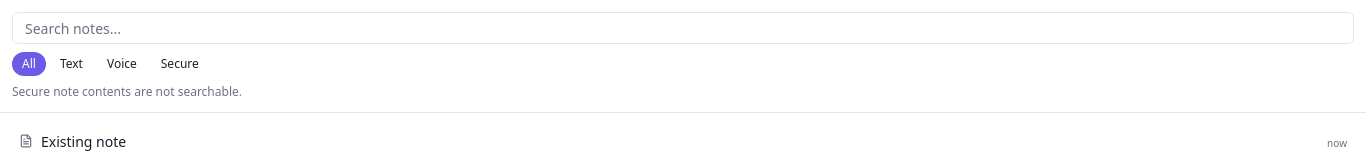
Test case: NoteList — empty states › shows "No notes match" when a text search returns empty results
In the field with placeholder "Search notes...": {"x": 683, "y": 28} [12,12,1354,44], type "zzznomatch"
Wait 300 ms
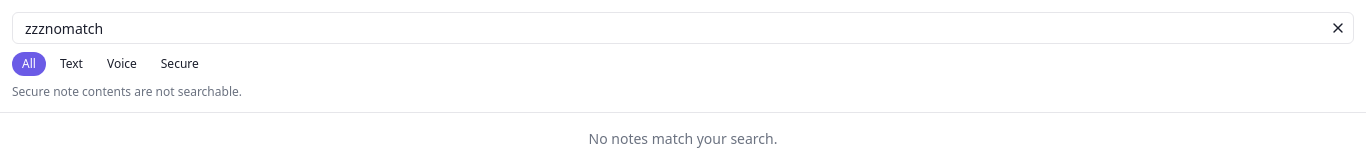
Now the text "No notes match your search." is shown, box [588,129,778,148]
